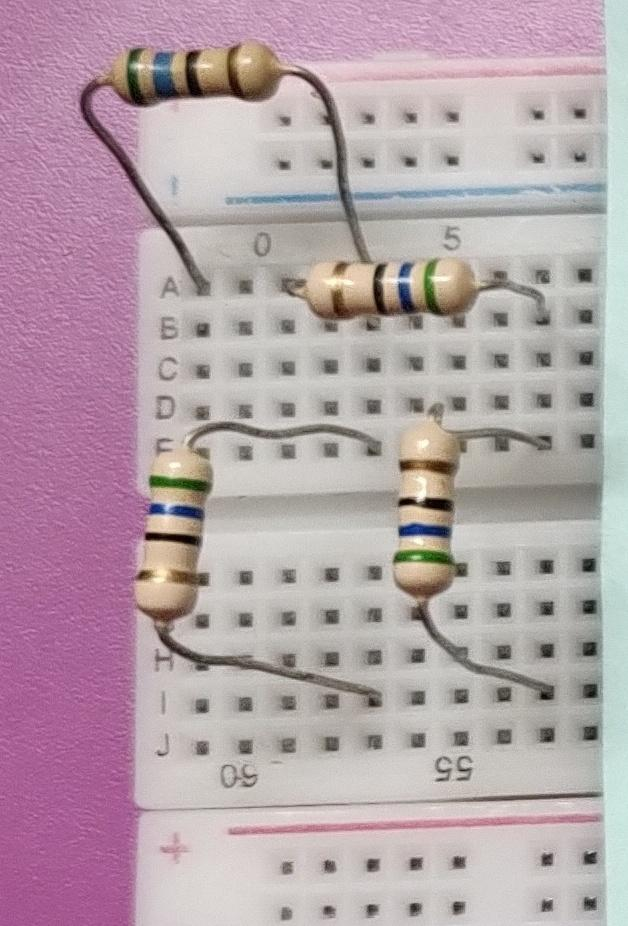resistor: (125, 423, 216, 646), (385, 415, 474, 622), (285, 251, 515, 327), (101, 31, 297, 108)
